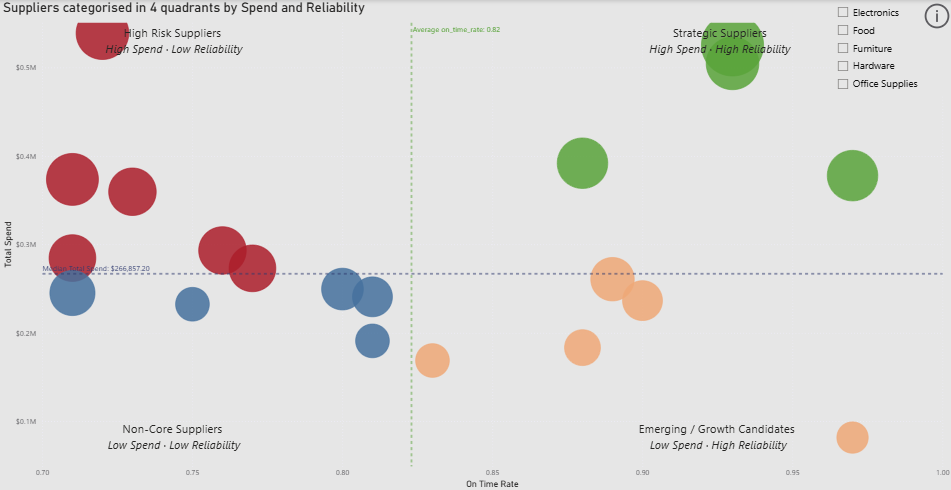

The page's visual inventory and layout, read from the dashboard file:
{"tool":"powerbi","page":{"name":"Supplier Analysis","canvas":[1550,800],"ordinal":1},"visuals":[{"type":"scatterChart","title":"Suppliers categorised in 4 quadrants by Spend and Reliability","fields":{"Category":["Dim_Supplier.supplier_name"],"X":["Sum(Dim_Supplier.on_time_rate)"],"Size":["Fact_Purchase_Order.Number of Orders"],"Y":["Fact_Purchase_Order.Total Spend"]},"box":[0,0,1549.6,800],"z":0},{"type":"slicer","fields":{"Values":["Dim_Product_Category.category"]},"box":[1349.6,0,200,156.1],"z":1000},{"type":"textbox","box":[1020.5,35.1,294,61.8],"z":2000},{"type":"textbox","box":[130.3,35.1,300.6,61.8],"z":3000},{"type":"textbox","box":[1020.5,679.8,289,61.8],"z":4000},{"type":"textbox","box":[130.3,679.8,300.6,61.8],"z":5000},{"type":"actionButton","box":[1497.6,0,52,52],"z":6000}]}

Visuals, with their boxes in screenshot pixels (x1, y1, x2, y2), scaled from the page's 1550x800 canvas onto the 951x490 screenshot:
"Suppliers categorised in 4 quadrants by Spend and Reliability" scatterChart: (x1=0, y1=0, x2=950, y2=489)
slicer - Dim_Product_Category.category: (x1=828, y1=0, x2=950, y2=96)
textbox: (x1=626, y1=21, x2=807, y2=59)
textbox: (x1=80, y1=21, x2=264, y2=59)
textbox: (x1=626, y1=416, x2=803, y2=454)
textbox: (x1=80, y1=416, x2=264, y2=454)
actionButton: (x1=919, y1=0, x2=950, y2=32)
